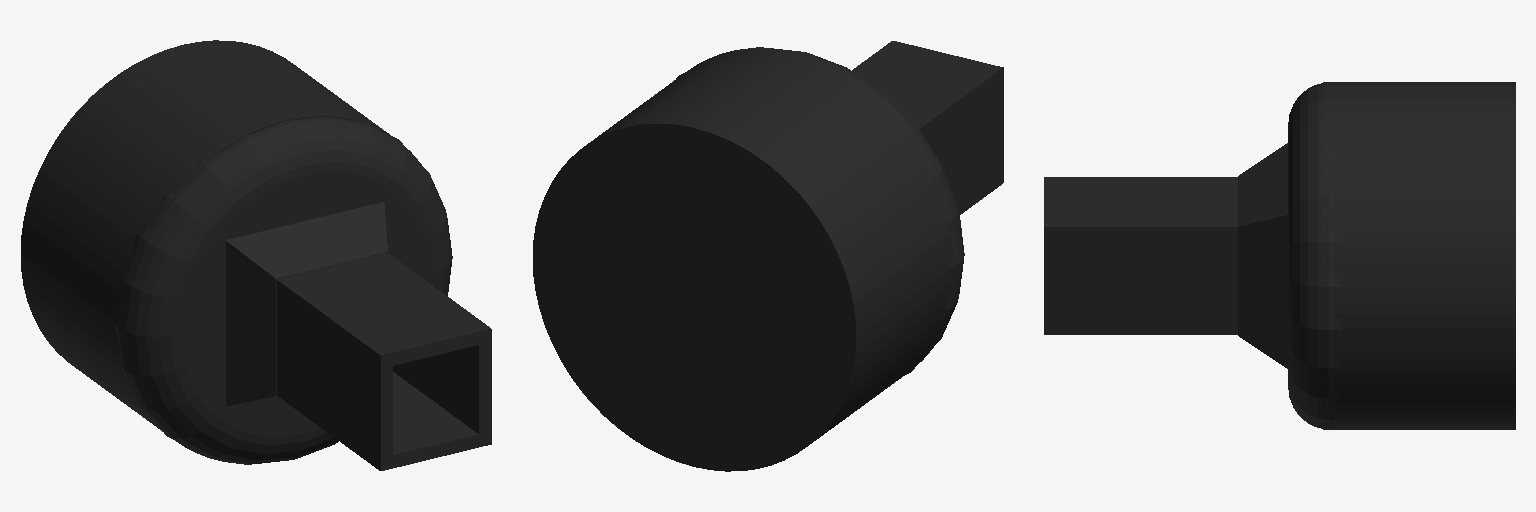
URDF robot description (ur5):
<?xml version="1.0" ?>
<!-- ============================================================================================= -->
<!-- |    This document was autogenerated by xacro from ur_description/urdf/ur5_robot.urdf.xacro | -->
<!-- |    EDITING THIS FILE BY HAND IS NOT RECOMMENDED                                           | -->
<!-- ============================================================================================= -->
<robot name="ur5" xmlns:xacro="http://ros.org/wiki/xacro">
  <material name="LightGrey">
    <color rgba="0.8 0.8 0.8 1.0"/>
  </material>

  <material name="DarkGrey">
    <color rgba="0.2 0.2 0.2 1.0"/>
  </material>

  <link name="base_link">
    <visual>
      <geometry>
        <mesh filename="visual/base.stl"/>
      </geometry>
       <!--<material name="LightGrey"/>-->
      <material name="LightGrey">
        <color rgba="0.7 0.7 0.7 1.0"/>
      </material>
    </visual>
    <!-- <collision>
      <geometry>
      	<mesh filename="collision/base.stl"/>
      </geometry>
    </collision> -->
    <inertial>
      <mass value="4.0"/>
      <origin rpy="0 0 0" xyz="0.0 0.0 0.0"/>
      <inertia ixx="0.00443333156" ixy="0.0" ixz="0.0" iyy="0.00443333156" iyz="0.0" izz="0.0072"/>
    </inertial>
  </link>
  <joint name="shoulder_pan_joint" type="revolute">
    <parent link="base_link"/>
    <child link="shoulder_link"/>
    <origin rpy="0.0 0.0 0.0" xyz="0.0 0.0 0.089159"/>
    <axis xyz="0 0 1"/>
    <limit effort="150.0" lower="-6.28318530718" upper="6.28318530718" velocity="3.15"/>
    <dynamics damping="0.0" friction="0.0"/>
  </joint>
  <link name="shoulder_link">
    <visual>
      <geometry>
        <mesh filename="visual/shoulder.stl"/>
      </geometry>
        <material name="UR-Blue">
        <color rgba="0.376 0.576 0.674 1.0"/>
      </material>
      <!--<material name="DarkGrey"/> -->
    </visual>
    <!-- <collision>
      <geometry>
        <mesh filename="collision/shoulder.stl"/>
      </geometry>
    </collision> -->
    <inertial>
      <mass value="3.7"/>
      <origin rpy="0 0 0" xyz="0.0 0.0 0.0"/>
      <inertia ixx="0.010267495893" ixy="0.0" ixz="0.0" iyy="0.010267495893" iyz="0.0" izz="0.00666"/>
    </inertial>
  </link>
  <joint name="shoulder_lift_joint" type="revolute">
    <parent link="shoulder_link"/>
    <child link="upper_arm_link"/>
    <origin rpy="0.0 1.57079632679 0.0" xyz="0.0 0.13585 0.0"/>
    <axis xyz="0 1 0"/>
    <limit effort="150.0" lower="-6.28318530718" upper="6.28318530718" velocity="3.15"/>
    <dynamics damping="0.0" friction="0.0"/>
  </joint>
  <link name="upper_arm_link">
    <visual>
      <geometry>
        <mesh filename="visual/upperarm.stl"/>
      </geometry>
      <!--<material name="LightGrey"/> -->
      <material name="LightGrey">
        <color rgba="0.7 0.7 0.7 1.0"/>
      </material>
    </visual>
    <!-- <collision>
      <geometry>
        <mesh filename="collision/upperarm.stl"/>
      </geometry>
    </collision> -->
    <inertial>
      <mass value="8.393"/>
      <origin rpy="0 0 0" xyz="0.0 0.0 0.28"/>
      <inertia ixx="0.22689067591" ixy="0.0" ixz="0.0" iyy="0.22689067591" iyz="0.0" izz="0.0151074"/>
    </inertial>
  </link>
  <joint name="elbow_joint" type="revolute">
    <parent link="upper_arm_link"/>
    <child link="forearm_link"/>
    <origin rpy="0.0 0.0 0.0" xyz="0.0 -0.1197 0.425"/>
    <axis xyz="0 1 0"/>
    <limit effort="150.0" lower="-3.14159265359" upper="3.14159265359" velocity="3.15"/>
    <dynamics damping="0.0" friction="0.0"/>
  </joint>
  <link name="forearm_link">
    <visual>
      <geometry>
        <mesh filename="visual/forearm.stl"/>
      </geometry>
      <!--<material name="LightGrey"/> -->
      <material name="LightGrey">
        <color rgba="0.7 0.7 0.7 1.0"/>
      </material>
    </visual>
    <!-- <collision>
      <geometry>
        <mesh filename="collision/forearm.stl"/>
      </geometry>
    </collision> -->
    <inertial>
      <mass value="2.275"/>
      <origin rpy="0 0 0" xyz="0.0 0.0 0.25"/>
      <inertia ixx="0.049443313556" ixy="0.0" ixz="0.0" iyy="0.049443313556" iyz="0.0" izz="0.004095"/>
    </inertial>
  </link>
  <joint name="wrist_1_joint" type="revolute">
    <parent link="forearm_link"/>
    <child link="wrist_1_link"/>
    <origin rpy="0.0 1.57079632679 0.0" xyz="0.0 0.0 0.39225"/>
    <axis xyz="0 1 0"/>
    <limit effort="28.0" lower="-6.28318530718" upper="6.28318530718" velocity="3.2"/>
    <dynamics damping="0.0" friction="0.0"/>
  </joint>
  <link name="wrist_1_link">
    <visual>
      <geometry>
        <mesh filename="visual/wrist1.stl"/>
      </geometry>
      <!--<material name="LightGrey"/> -->
      <material name="UR-Blue">
        <color rgba="0.376 0.576 0.674 1.0"/>
      </material>
    </visual>
    <!-- <collision>
      <geometry>
        <mesh filename="collision/wrist1.stl"/>
      </geometry>
    </collision> -->
    <inertial>
      <mass value="1.219"/>
      <origin rpy="0 0 0" xyz="0.0 0.0 0.0"/>
      <inertia ixx="0.111172755531" ixy="0.0" ixz="0.0" iyy="0.111172755531" iyz="0.0" izz="0.21942"/>
    </inertial>
  </link>
  <joint name="wrist_2_joint" type="revolute">
    <parent link="wrist_1_link"/>
    <child link="wrist_2_link"/>
    <origin rpy="0.0 0.0 0.0" xyz="0.0 0.093 0.0"/>
    <axis xyz="0 0 1"/>
    <limit effort="28.0" lower="-6.28318530718" upper="6.28318530718" velocity="3.2"/>
    <dynamics damping="0.0" friction="0.0"/>
  </joint>
  <link name="wrist_2_link">
    <visual>
      <geometry>
        <mesh filename="visual/wrist2.stl"/>
      </geometry>
      <!--<material name="DarkGrey"/> -->
      <material name="DarkGray">
        <color rgba="0.5 0.5 0.5 1.0"/>
      </material>
    </visual>
    <!-- <collision>
      <geometry>
        <mesh filename="collision/wrist2.stl"/>
      </geometry>
    </collision> -->
    <inertial>
      <mass value="1.219"/>
      <origin rpy="0 0 0" xyz="0.0 0.0 0.0"/>
      <inertia ixx="0.111172755531" ixy="0.0" ixz="0.0" iyy="0.111172755531" iyz="0.0" izz="0.21942"/>
    </inertial>
  </link>
  <joint name="wrist_3_joint" type="revolute">
    <parent link="wrist_2_link"/>
    <child link="wrist_3_link"/>
    <origin rpy="0.0 0.0 0.0" xyz="0.0 0.0 0.09465"/>
    <axis xyz="0 1 0"/>
    <limit effort="28.0" lower="-6.28318530718" upper="6.28318530718" velocity="3.2"/>
    <dynamics damping="0.0" friction="0.0"/>
  </joint>
  <link name="wrist_3_link">
    <visual>
      <geometry>
        <mesh filename="visual/wrist3.stl"/>
      </geometry>
       <!--<material name="LightGrey"/> -->
      <material name="LightGrey">
        <color rgba="0.7 0.7 0.7 1.0"/>
      </material>
    </visual>
    <collision>
      <geometry>
        <mesh filename="collision/wrist3.stl"/>
      </geometry>
    </collision>
    <inertial>
      <mass value="0.1879"/>
      <origin rpy="0 0 0" xyz="0.0 0.0 0.0"/>
      <inertia ixx="0.0171364731454" ixy="0.0" ixz="0.0" iyy="0.0171364731454" iyz="0.0" izz="0.033822"/>
    </inertial>
  </link>
  <joint name="ee_fixed_joint" type="fixed">
    <parent link="wrist_3_link"/>
    <child link="ee_link"/>
    <origin rpy="-1.5707963267948966 0.0 0.0" xyz="0.0 0.0823 0.0"/>
  </joint>
  <link name="ee_link">
    <!-- <collision>
      <geometry>
        <box size="0.01 0.01 0.01"/>
      </geometry>
      <origin rpy="0 0 0" xyz="-0.01 0 0"/>
    </collision> -->
    <inertial>
      <mass value="0.0"/>
      <origin rpy="0 0 0" xyz="0.0 0.0 0.0"/>
      <inertia ixx="0.0" ixy="0.0" ixz="0.0" iyy="0.0" iyz="0.0" izz="0.0"/>
    </inertial>
  </link>
  <!-- nothing to do here at the moment -->
  <!-- ROS base_link to UR 'Base' Coordinates transform -->
  <link name="base">
    <inertial>
      <mass value="0.0"/>
      <origin rpy="0 0 0" xyz="0.0 0.0 0.0"/>
      <inertia ixx="0.0" ixy="0.0" ixz="0.0" iyy="0.0" iyz="0.0" izz="0.0"/>
    </inertial>
  </link>
  <joint name="base_link-base_fixed_joint" type="fixed">
    <!-- NOTE: this rotation is only needed as long as base_link itself is
                 not corrected wrt the real robot (ie: rotated over 180
                 degrees)
      -->
    <origin rpy="0 0 -3.14159265359" xyz="0 0 0"/>
    <parent link="base_link"/>
    <child link="base"/>
  </joint>
  <!-- Frame coincident with all-zeros TCP on UR controller -->
  <link name="tool0">
    <inertial>
      <mass value="0.0"/>
      <origin rpy="0 0 0" xyz="0.0 0.0 0.0"/>
      <inertia ixx="0.0" ixy="0.0" ixz="0.0" iyy="0.0" iyz="0.0" izz="0.0"/>
    </inertial>
  </link>
  <joint name="wrist_3_link-tool0_fixed_joint" type="fixed">
    <origin rpy="-1.57079632679 0 0" xyz="0 0.0823 0"/>
    <parent link="wrist_3_link"/>
    <child link="tool0"/>
  </joint>

  <link name="suctionBaseLink">
    <contact>
      <lateral_friction value="1.0"/>
      <rolling_friction value="0.0001"/>
      <inertia_scaling value="3.0"/>
    </contact>
    <inertial>
      <origin rpy="0 0 0" xyz="0 0 0"/>
       <mass value=".1"/>
       <inertia ixx="1" ixy="0" ixz="0" iyy="1" iyz="0" izz="1"/>
    </inertial>
    <visual>
      <origin rpy="0 0 0" xyz="0 0 0"/>
      <geometry>
        <mesh filename="suction/base.obj" scale="0.001 0.001 0.001"/>
      </geometry>
      <material name="DarkGrey"/>
    </visual>
  </link>
  <joint name="tool0_fixed_joint-suctionBaseLink" type="fixed">
    <origin rpy="0 0 0" xyz="0 0 0"/>
    <parent link="tool0"/>
    <child link="suctionBaseLink"/>
  </joint>

  <link name="suctionMidLink">
    <contact>
      <lateral_friction value="1.0"/>
      <rolling_friction value="0.0001"/>
      <inertia_scaling value="3.0"/>
    </contact>
    <inertial>
      <origin rpy="0 0 0" xyz="0 0 0"/>
       <mass value=".1"/>
       <inertia ixx="1" ixy="0" ixz="0" iyy="1" iyz="0" izz="1"/>
    </inertial>
    <visual>
      <origin rpy="0 0 0" xyz="0 0 0"/>
      <geometry>
        <mesh filename="suction/mid.obj" scale="0.001 0.001 0.001"/>
      </geometry>
      <material name="DarkGrey"/>
    </visual>
  </link>
  <joint name="suctionBaseLink-suctionMidLink" type="fixed">
    <origin rpy="0 0 0" xyz="0 0 0.025"/>
    <parent link="suctionBaseLink"/>
    <child link="suctionMidLink"/>
  </joint>


  <link name="tool_tip">
    <inertial>
      <mass value="0.0"/>
      <origin rpy="-3.14159265359 0 -1.57079632679" xyz="0.0 0.0 0.0"/>
      <inertia ixx="0.0" ixy="0.0" ixz="0.0" iyy="0.0" iyz="0.0" izz="0.0"/>
    </inertial>
    <!-- <visual>
      <geometry>
        <box size="0.01 0.01 0.01"/>
      </geometry>
      <origin rpy="0 0 0" xyz="0 0 0"/>
    </visual> -->
  </link>
  <joint name="suctionMidLink-tool_tip" type="fixed">
    <origin rpy="0 0 0" xyz="0 0 0.11"/>
    <parent link="suctionMidLink"/>
    <child link="tool_tip"/>
  </joint>













  <link name="world"/>
  <joint name="world_joint" type="fixed">
    <parent link="world"/>
    <child link="rotated_base_link"/>
    <origin rpy="0.0 0.0 0.0" xyz="0.0 0.0 0.0"/>
  </joint>

  <link name="rotated_base_link">
    <inertial>
      <mass value="0.0"/>
      <origin rpy="0 0 0" xyz="0.0 0.0 0.0"/>
      <inertia ixx="0.0" ixy="0.0" ixz="0.0" iyy="0.0" iyz="0.0" izz="0.0"/>
    </inertial>
  </link>>

  <joint name="rotated_base-base_fixed_joint" type="fixed">
    <origin xyz="0.0 0.0 0.0" rpy="0.0 0.0 3.141592653589793"/>
    <parent link="rotated_base_link"/>
    <child link="base_link"/>
  </joint>
</robot>

--- Facts derived from the render (not from the file) ---
The picture shows the robot from 3 angles, left to right: view 1: azimuth 30°, elevation 25°; view 2: azimuth 150°, elevation 25°; view 3: azimuth 270°, elevation 25°; orthographic projection.
Model ur5 with 15 links and 14 joints (6 revolute, 8 fixed), rooted at world, posed all joints at 0.
Visible links, largest first — view 1: suctionMidLink, suctionBaseLink; view 2: suctionBaseLink, suctionMidLink; view 3: suctionMidLink, suctionBaseLink.
Link boxes in pixels (x1,y1,x2,y2): suctionMidLink: (82,85,491,470); suctionBaseLink: (21,40,351,406); suctionBaseLink: (533,78,917,471); suctionMidLink: (644,41,1003,397); suctionMidLink: (1044,82,1400,429); suctionBaseLink: (1401,82,1515,429).
Size in the robot's own frame: 0.077 by 0.103 by 0.076 metres.
Meshes: 9 distinct files referenced, 2 mesh visuals loaded (2 OBJ); not drawn: 7 (reference not matched to a file when rendering).